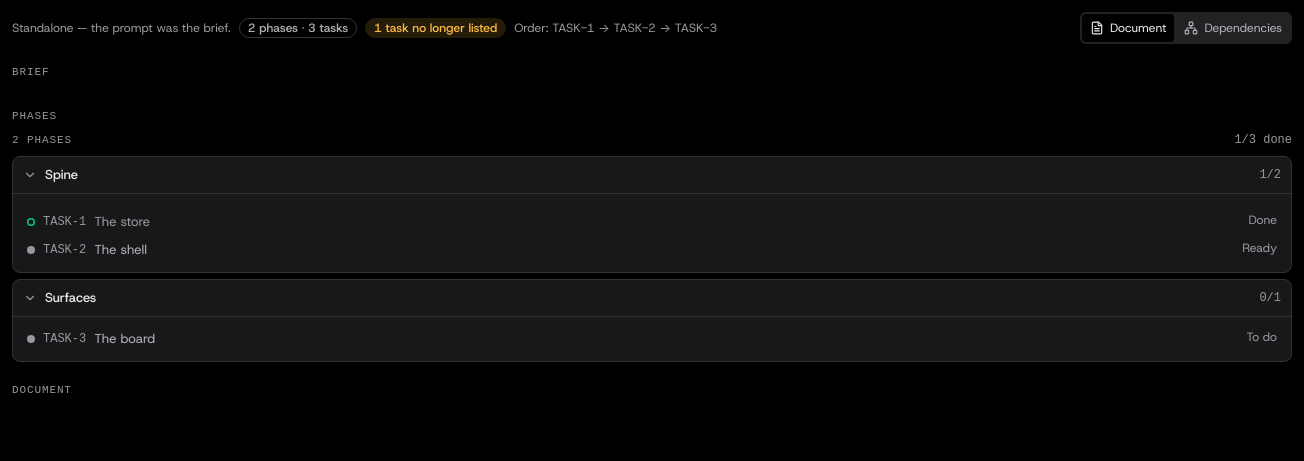
the dependencies view › keeps a task the plan no longer lists, and says so
Click the tab "Dependencies" at (1233, 28), box top-left (1176, 14), bottom-right (1290, 42)
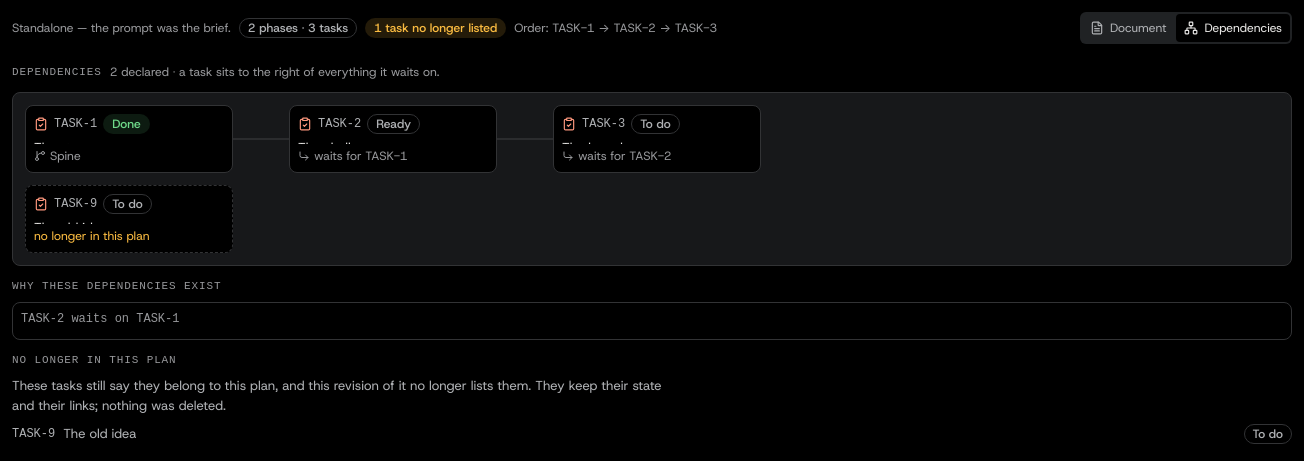
Check: the text "no longer in this plan" is shown, box top-left (34, 228), bottom-right (150, 244)
Check: the text "The old idea" is shown, box top-left (34, 218), bottom-right (107, 224)
Check: the text "TASK-9" is shown, box top-left (54, 196), bottom-right (97, 212)
